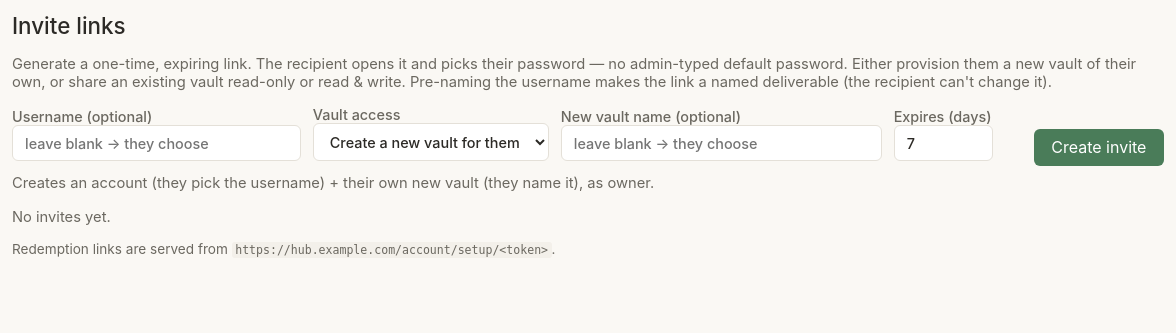
Scenario: InvitesSection — form modes › surfaces a createInvite server error in the banner
The width and height of the screenshot is (1176, 333).
Check: the text "No invites yet." is shown, box [12,208,111,226]
Type "jonathan" into the field labelled "Username (optional)". click: (156, 143)
box: [12,125,301,161]
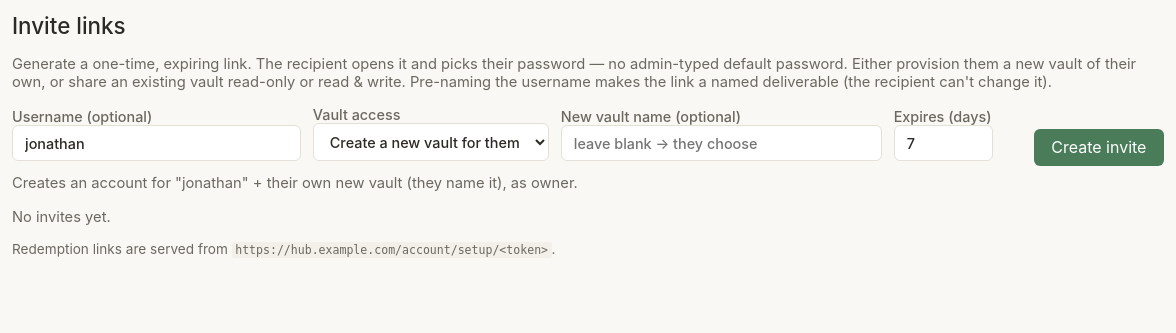
Click the button "Create invite". click: (1099, 147)
box: [1034,128,1164,166]
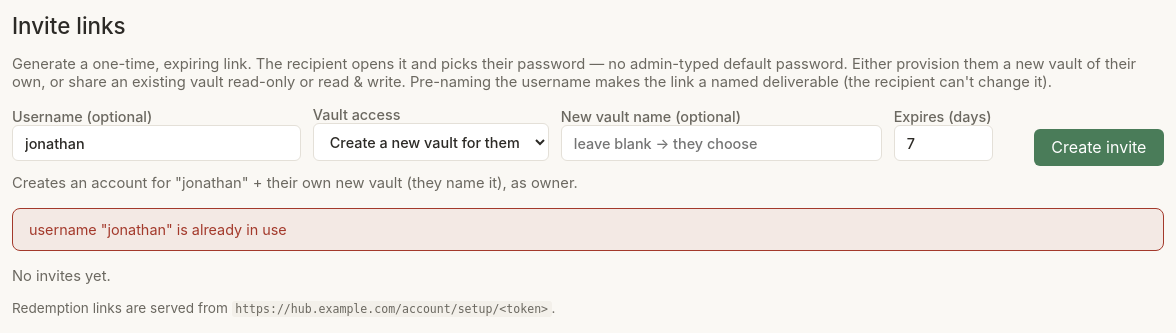
Check: the text "username \"jonathan\" is already in use" is shown, box [12,208,1164,251]
